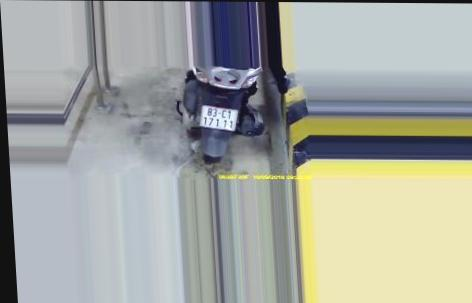License_Plate: (197, 102, 241, 135)
